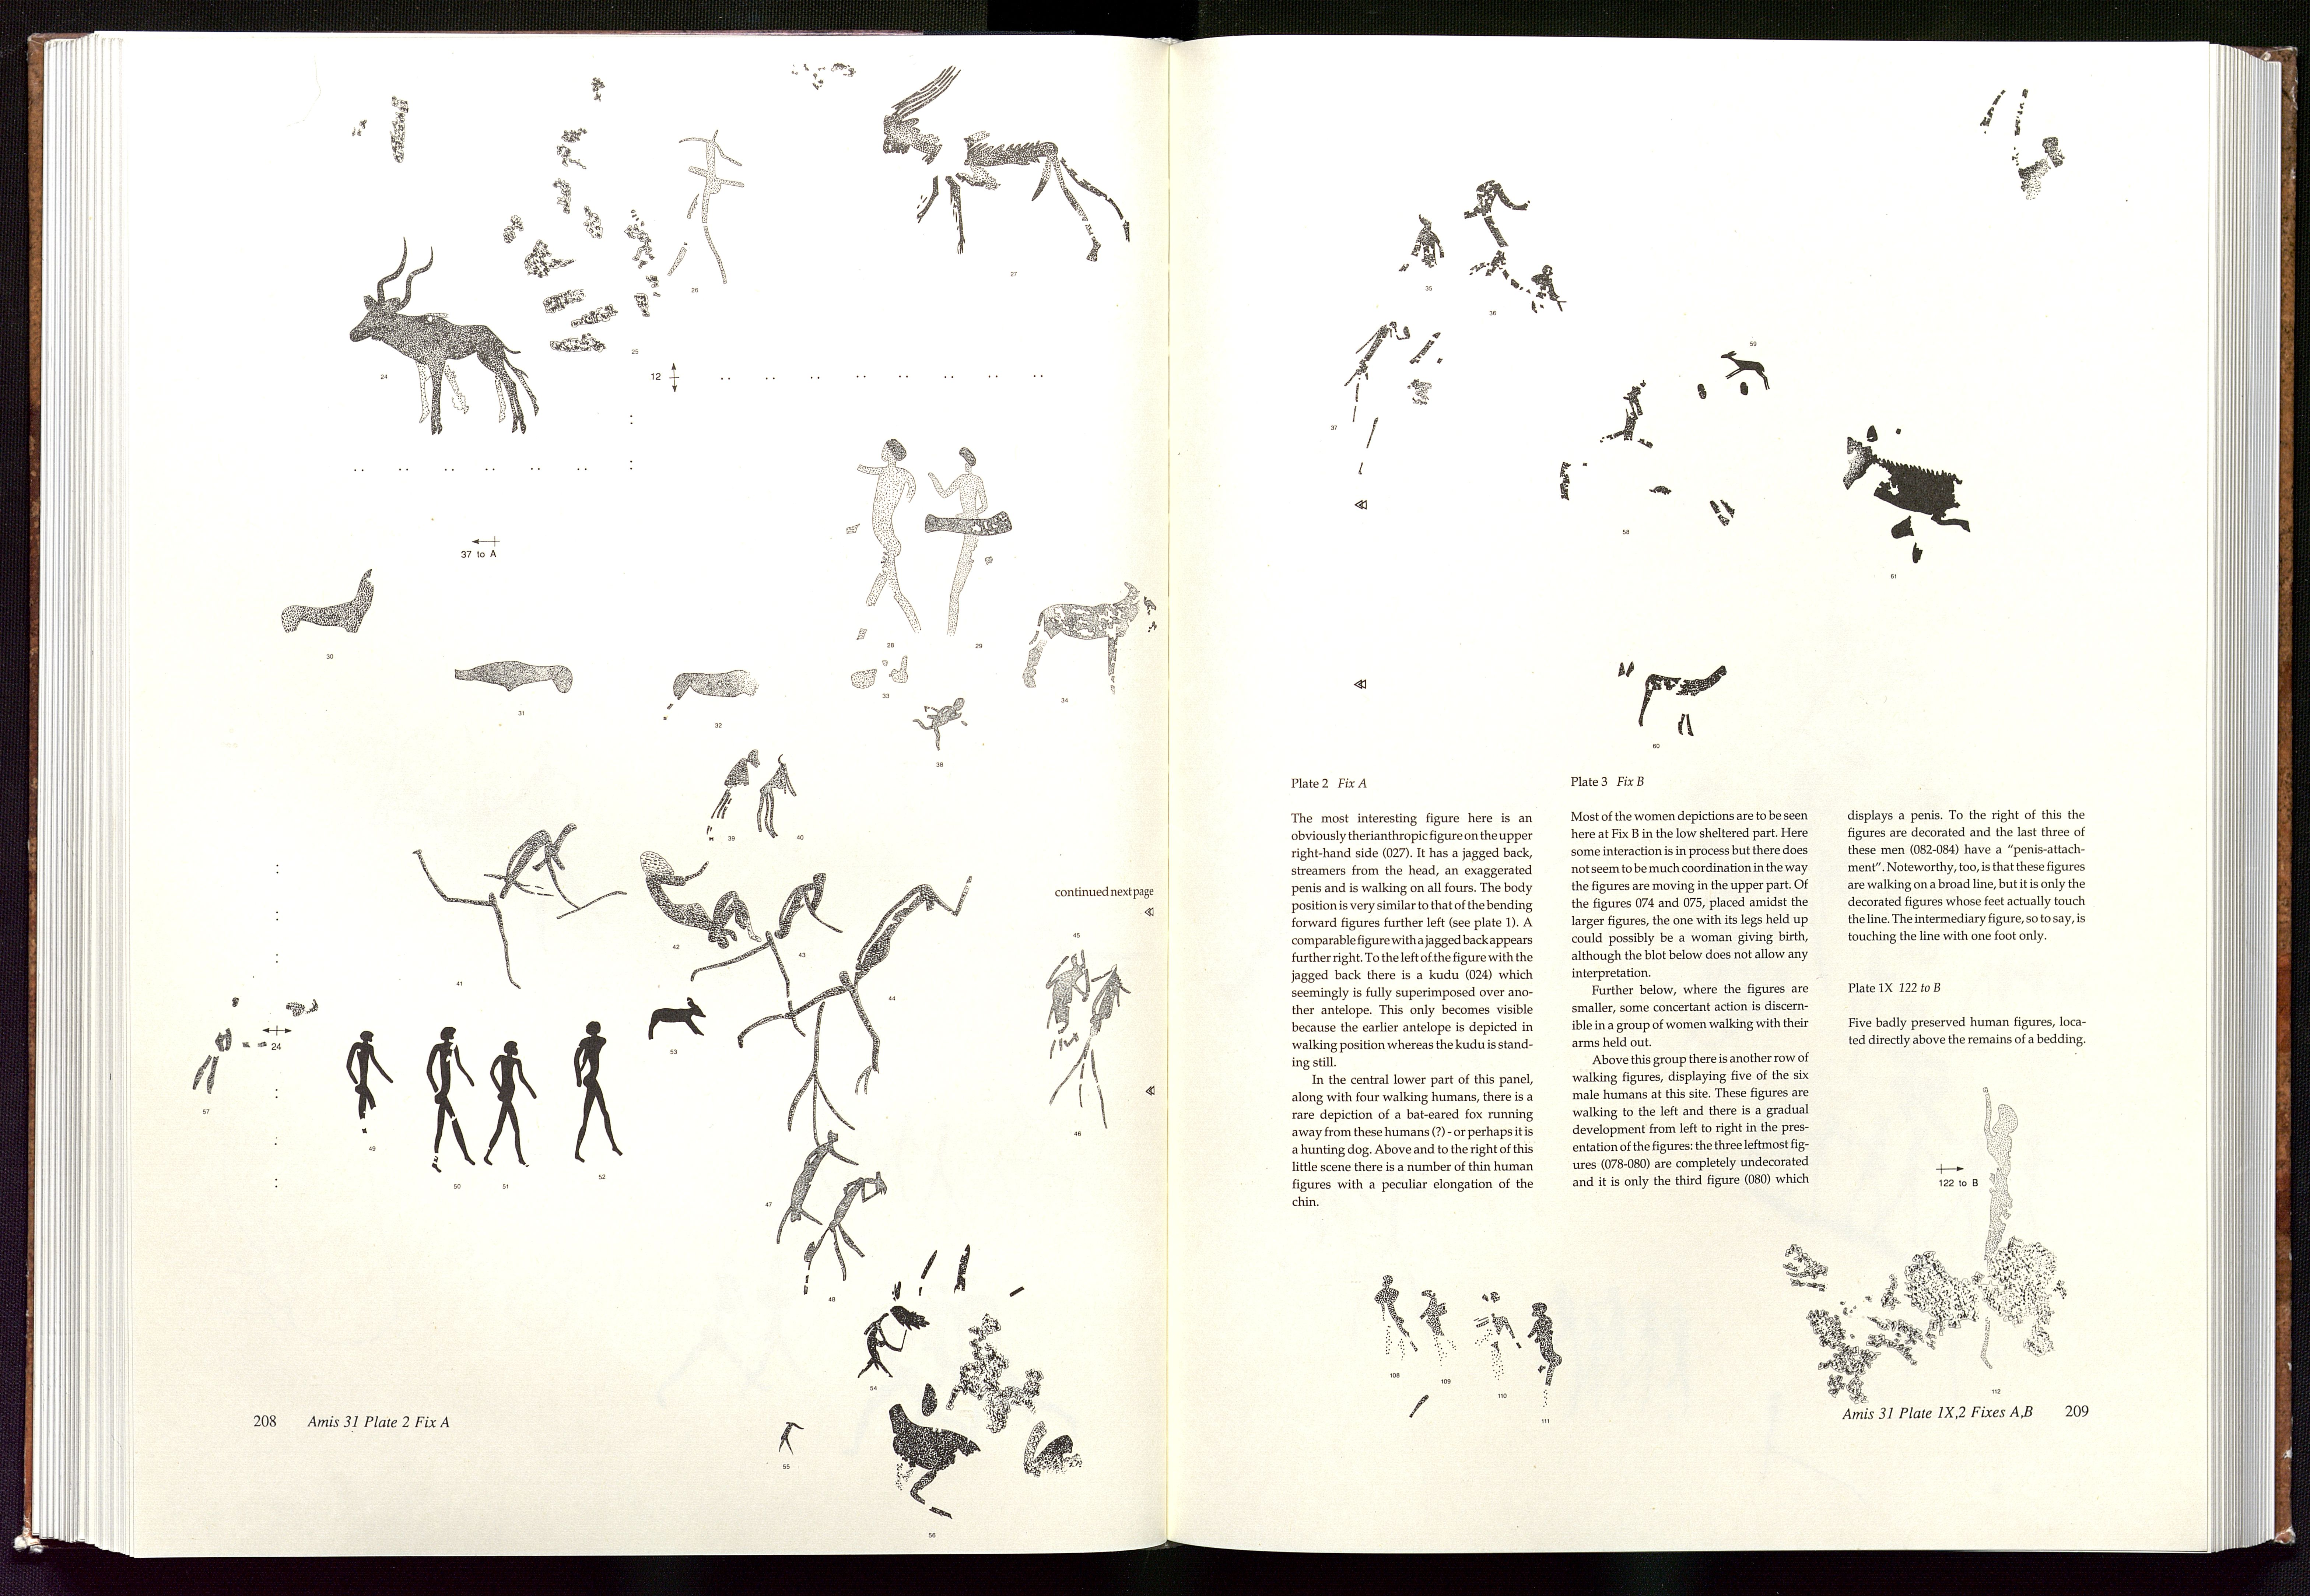animal: (866, 60, 1144, 291), (348, 234, 544, 453), (1019, 580, 1168, 701), (444, 642, 593, 711), (274, 566, 387, 644)
human: (743, 880, 979, 1089), (412, 814, 638, 988), (684, 870, 849, 1035), (844, 426, 920, 694), (925, 433, 1013, 649), (562, 1018, 630, 1172), (1365, 1263, 1426, 1420), (427, 1023, 481, 1172), (770, 1123, 834, 1244), (341, 1025, 390, 1177), (483, 1030, 532, 1182), (1043, 937, 1090, 1084), (1470, 1283, 1522, 1413), (1527, 1300, 1568, 1428)
